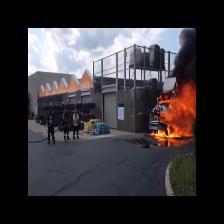fire: (162, 96, 195, 135)
smoke: (180, 41, 194, 77)
